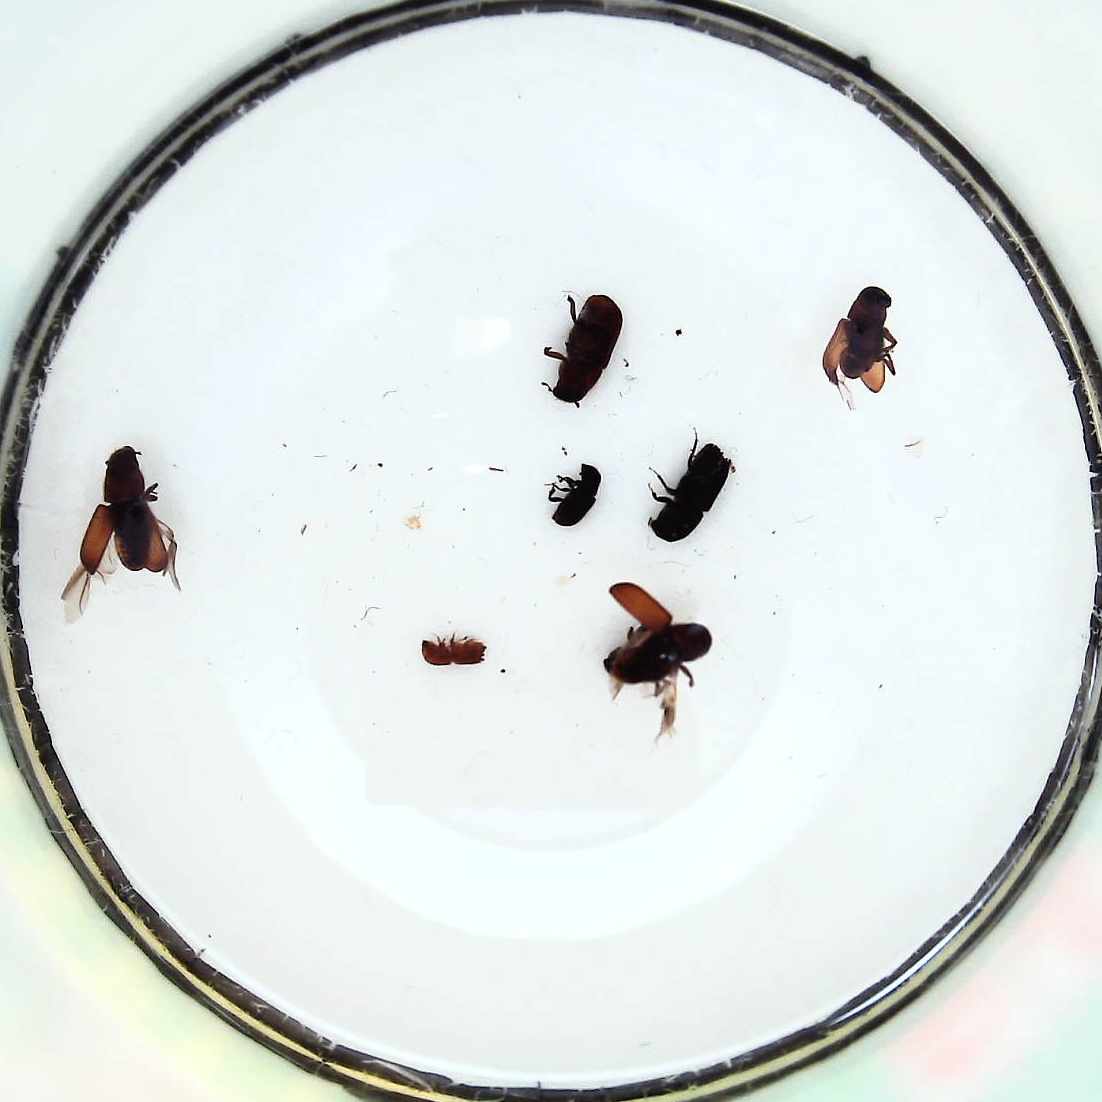Boerner: (645, 438, 733, 543)
Leconte: (76, 443, 177, 579), (600, 580, 717, 695), (546, 290, 625, 405), (823, 285, 904, 395)
acuminatus: (418, 630, 492, 667)
armandi: (546, 462, 602, 526)
